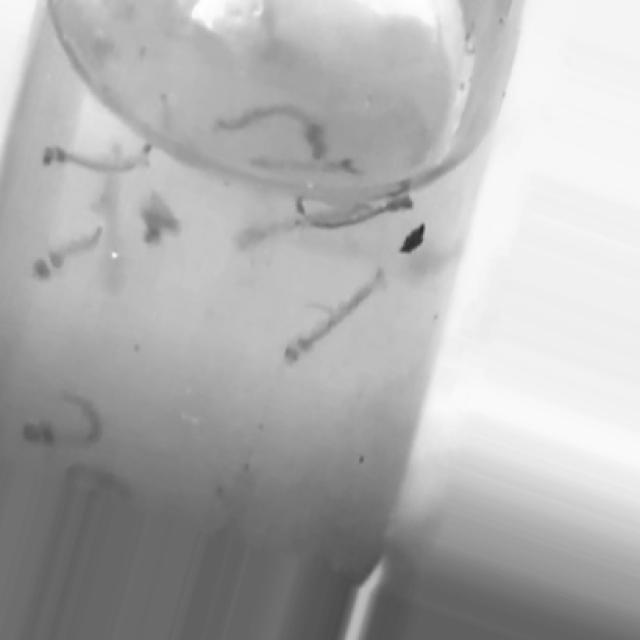larvas: (286, 278, 379, 360), (218, 98, 329, 152), (238, 204, 339, 247), (26, 395, 100, 447), (33, 223, 99, 281), (98, 174, 127, 287), (40, 147, 152, 172), (254, 158, 355, 183), (350, 200, 414, 228), (144, 193, 177, 244)
